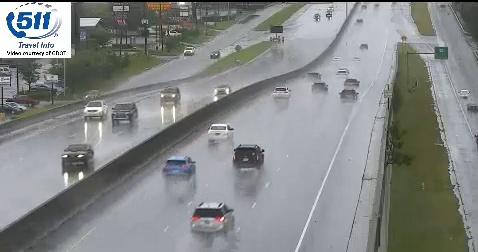car: (192, 203, 234, 234), (232, 144, 264, 168), (163, 156, 195, 178), (208, 124, 233, 143), (340, 88, 358, 102), (273, 86, 291, 99), (311, 81, 329, 94)
